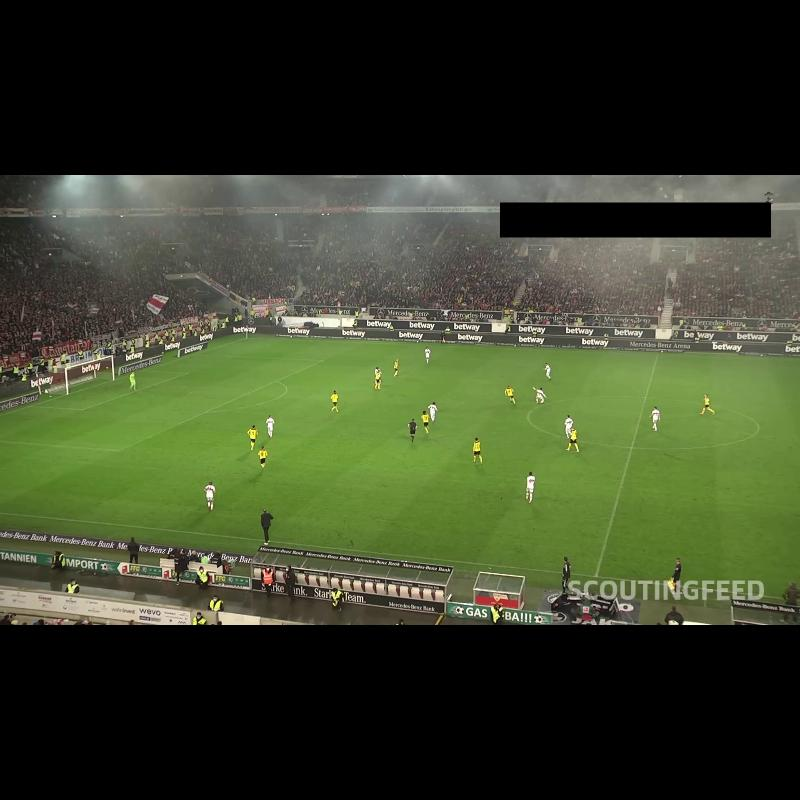cross_recipient_zone: (0, 354, 323, 450)
crossing_player_zone: (0, 440, 231, 526), (199, 338, 426, 364)
pitch: (0, 338, 800, 601)
